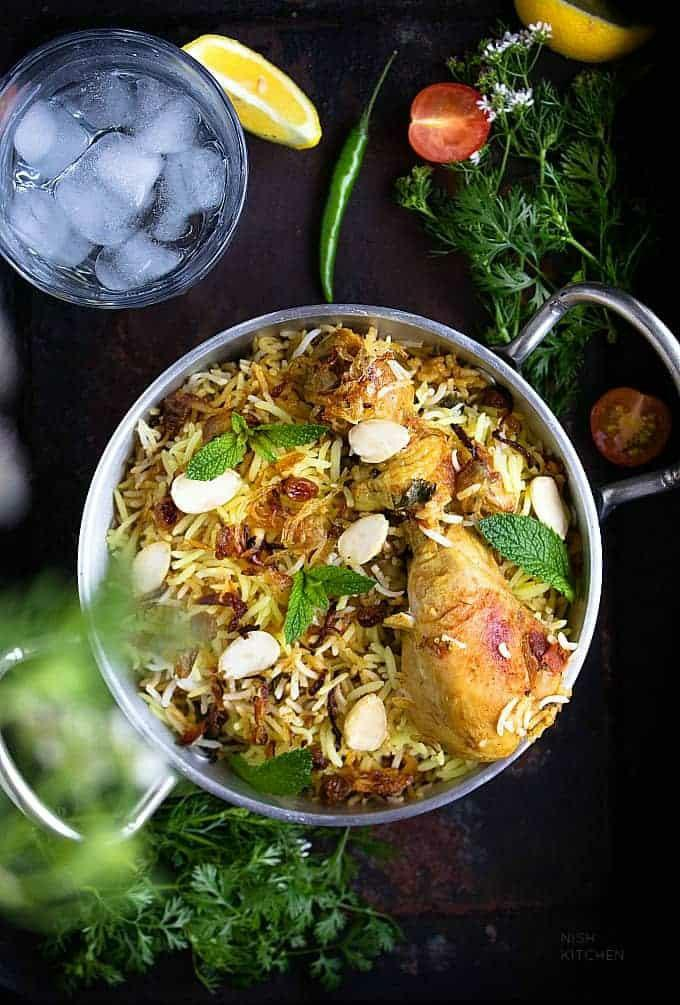Biryani: (105, 316, 575, 787)
